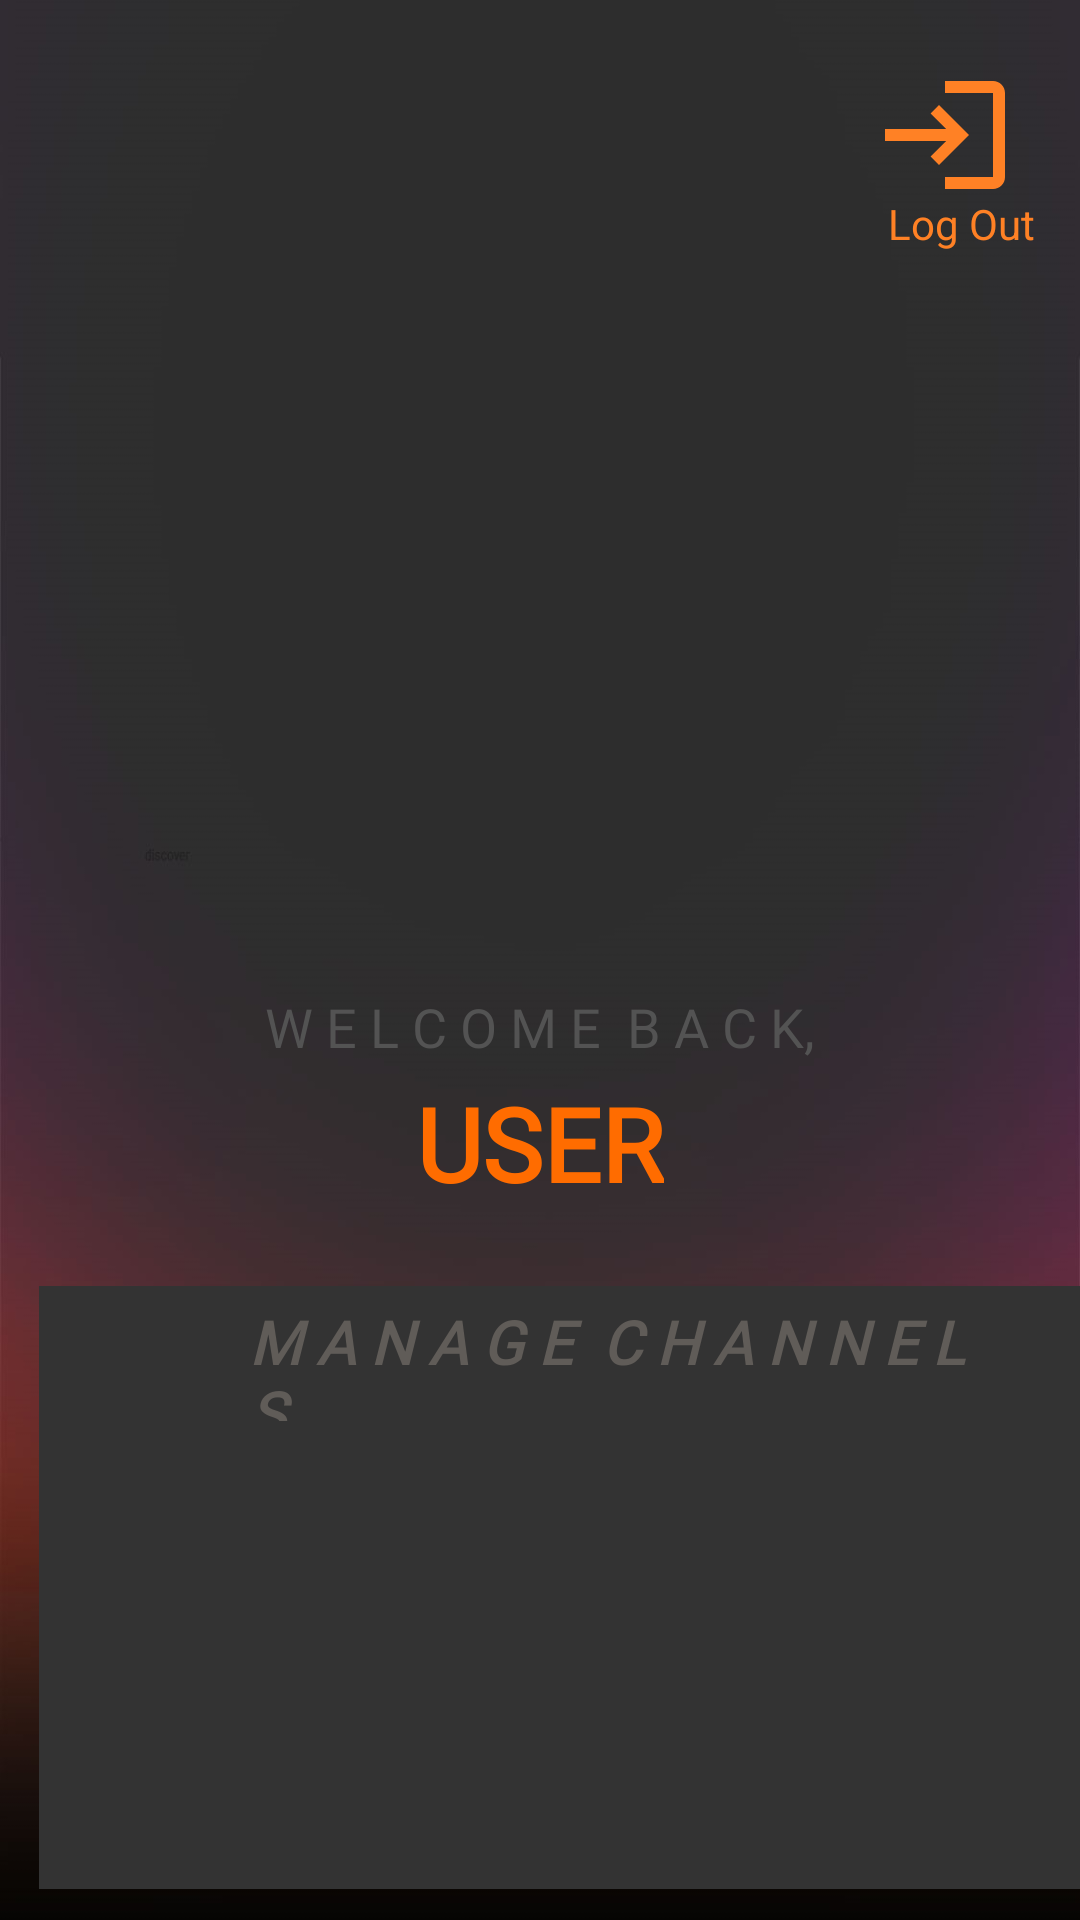

Locate icon controls on the screen. Image size 1080x1920, boxes as bbox=(x1, y1, x2, y2).
login: bbox=(885, 81, 1005, 189)
